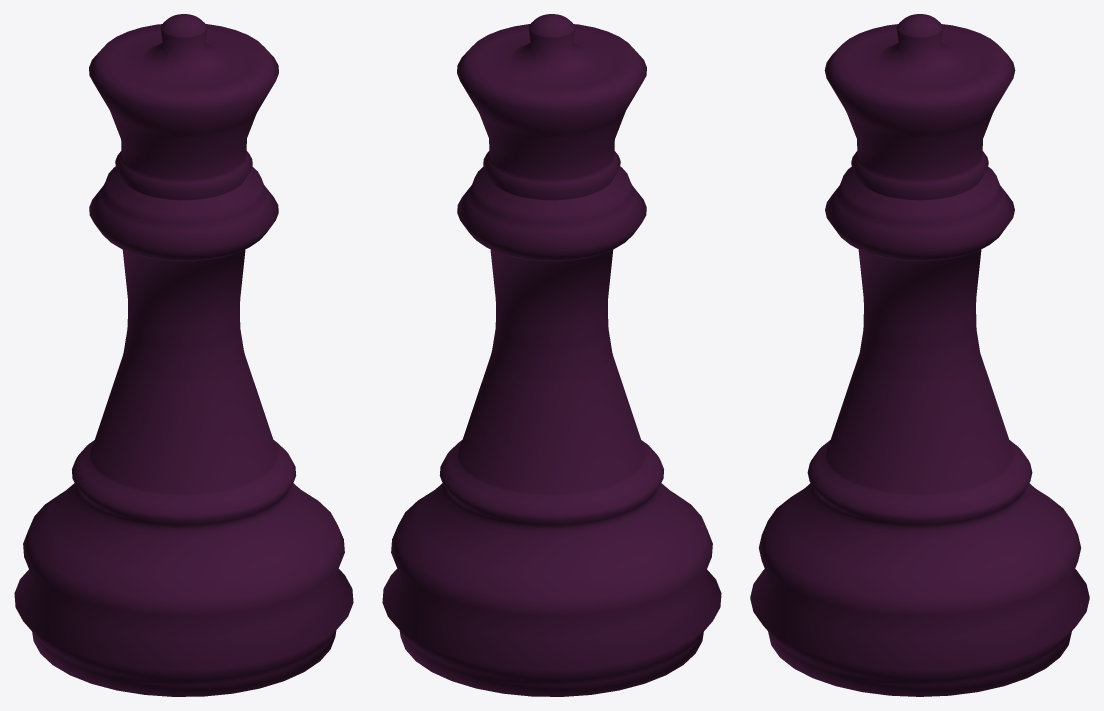
File: Queen_SpaceOdyssey.fbx
The picture shows the model from 3 angles, left to right: view 1: azimuth 30°, elevation 25°; view 2: azimuth 150°, elevation 25°; view 3: azimuth 270°, elevation 25°; orthographic projection.
Visible parts, largest first — view 1: Cube; view 2: Cube; view 3: Cube.
Boxes of the visible parts, bbox=[...] form: Cube: bbox=[14, 14, 353, 696]; Cube: bbox=[382, 14, 721, 696]; Cube: bbox=[750, 14, 1089, 696].
Size of the model in its own units: 199 by 400 by 199.
